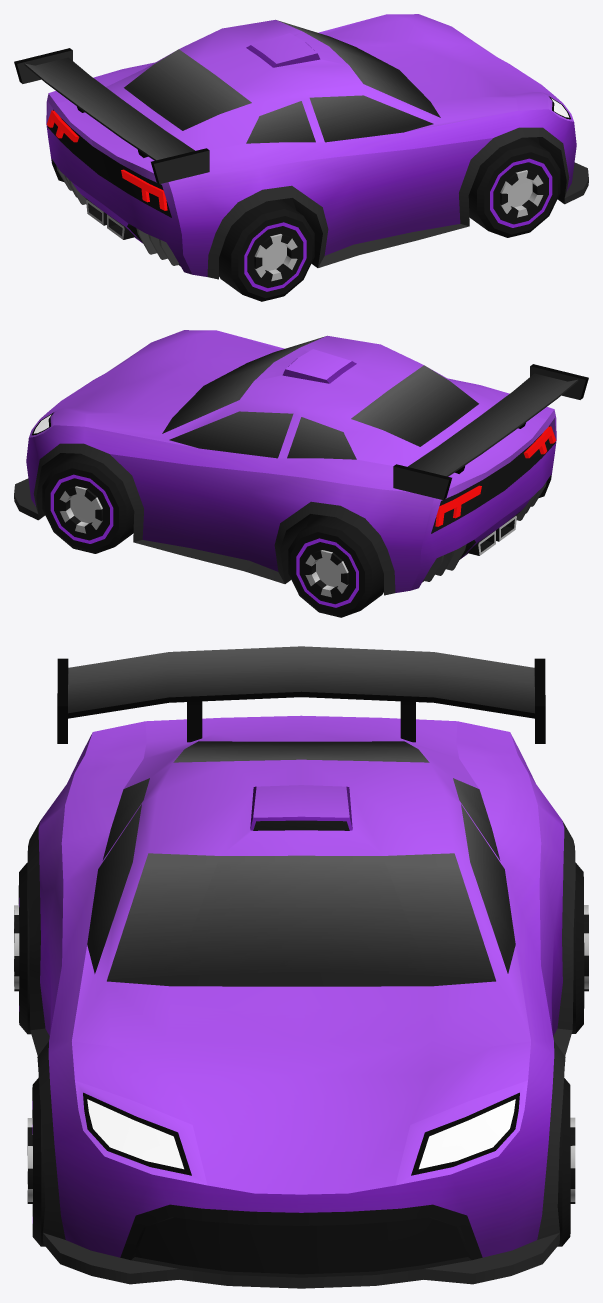
Rendered from RaceCar_098.glb.
The picture shows the model from 3 angles, top to bottom: view 1: azimuth 30°, elevation 25°; view 2: azimuth 150°, elevation 25°; view 3: azimuth 270°, elevation 25°; orthographic projection. The views are drawn at different scales.
Parts seen in each view (by area): view 1: RaceCar_098, wheel_3_RaceCar_098_Wheel_2R, wheel_1_RaceCar_098_Wheel_1R; view 2: RaceCar_098, wheel_2_RaceCar_098_Wheel_2L, wheel_0_RaceCar_098_Wheel_1L; view 3: RaceCar_098, wheel_0_RaceCar_098_Wheel_1L, wheel_1_RaceCar_098_Wheel_1R, wheel_3_RaceCar_098_Wheel_2R, wheel_2_RaceCar_098_Wheel_2L.
Part boxes in pixels (x1,y1,x2,y2): RaceCar_098: (14, 14, 588, 279); wheel_3_RaceCar_098_Wheel_2R: (219, 199, 314, 301); wheel_1_RaceCar_098_Wheel_1R: (468, 137, 560, 237); RaceCar_098: (14, 330, 588, 595); wheel_2_RaceCar_098_Wheel_2L: (288, 515, 383, 617); wheel_0_RaceCar_098_Wheel_1L: (42, 453, 134, 553); RaceCar_098: (27, 646, 575, 1288); wheel_0_RaceCar_098_Wheel_1L: (557, 1078, 575, 1246); wheel_1_RaceCar_098_Wheel_1R: (27, 1077, 45, 1246); wheel_3_RaceCar_098_Wheel_2R: (14, 863, 30, 1034); wheel_2_RaceCar_098_Wheel_2L: (571, 863, 588, 1033).
Bounding box in the file's own units: 3.52 × 1.25 × 2.16.
2 materials, 2 textured.
